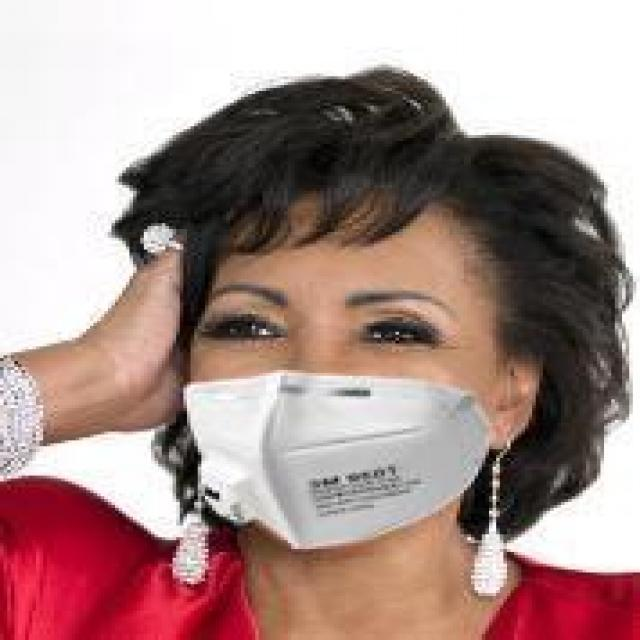mask: (194, 114, 557, 564)
